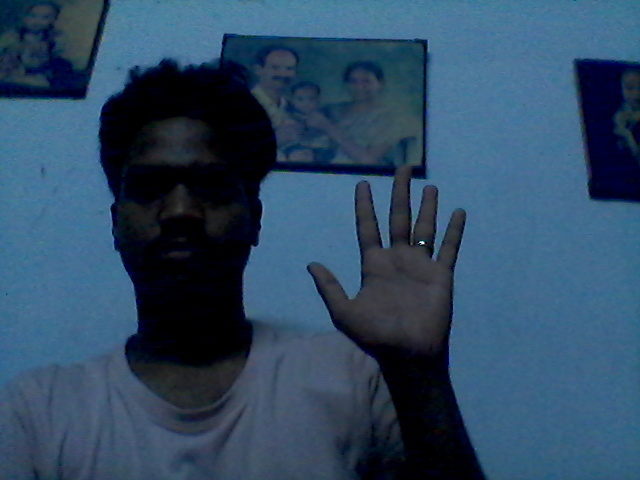Hi: (305, 162, 475, 375)
